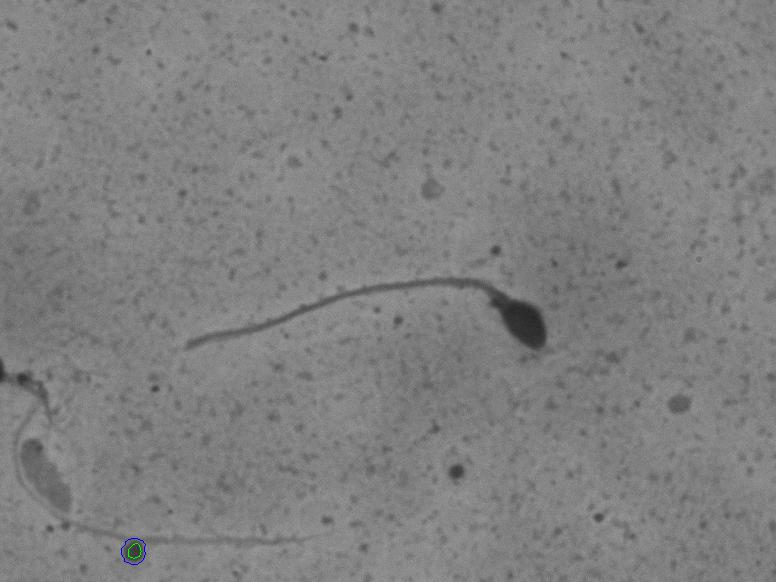Abnormal: (158, 207, 591, 442)
